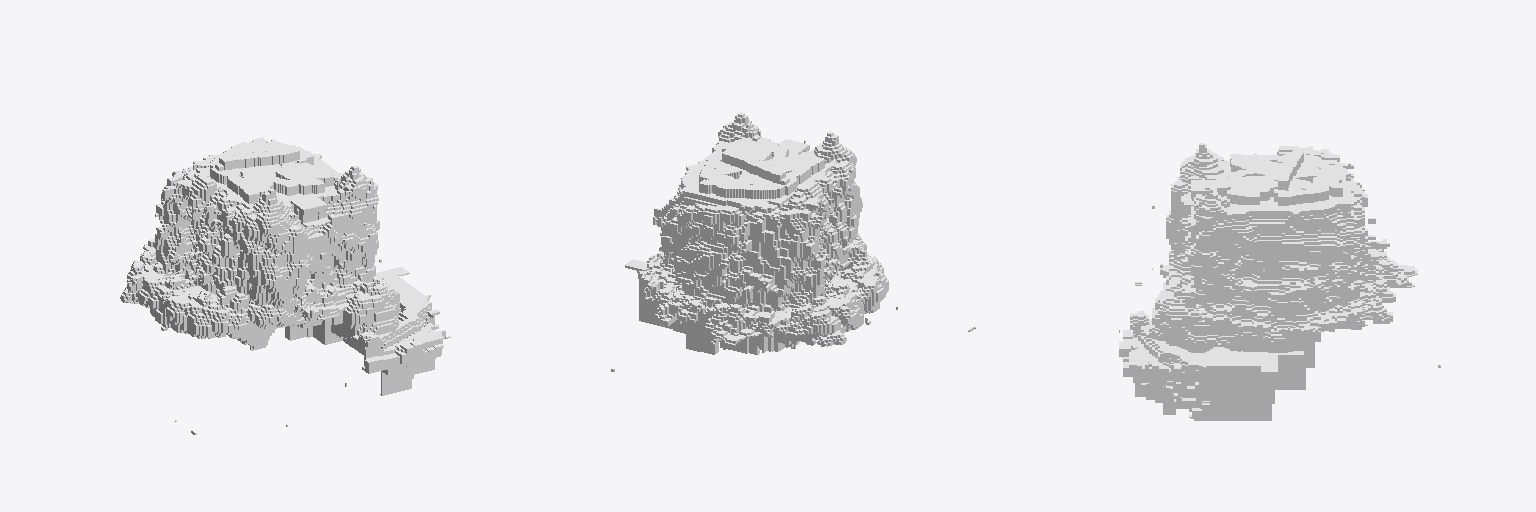
The model's file is Lava_stuff-42.obj.
3 views of the same model, side by side, from view 1: azimuth 30°, elevation 25°; view 2: azimuth 150°, elevation 25°; view 3: azimuth 270°, elevation 25° (orthographic).
Visible parts, largest first — view 1: object 1; view 2: object 1; view 3: object 1.
Boxes of the visible parts, <box> form: object 1: <box>120,137,450,434</box>; object 1: <box>611,112,975,371</box>; object 1: <box>1119,143,1440,420</box>.
Bounding box in the file's own units: 24.1 × 16 × 23.3.